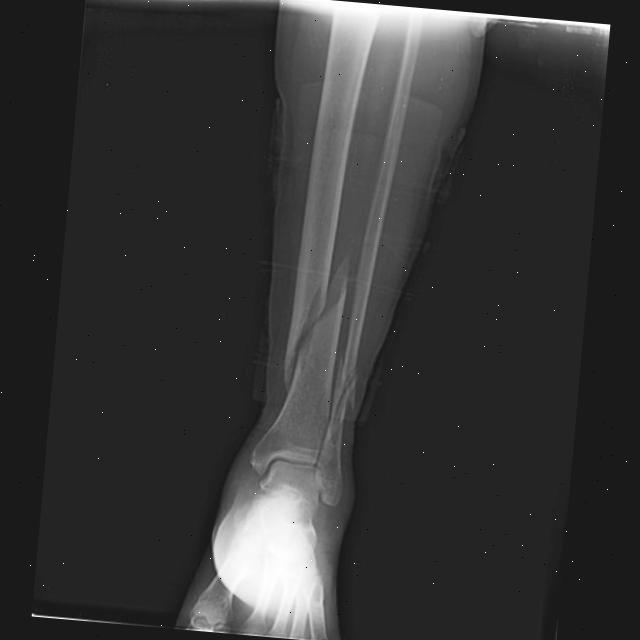Fracture: (278, 244, 352, 400), (325, 350, 360, 433)
